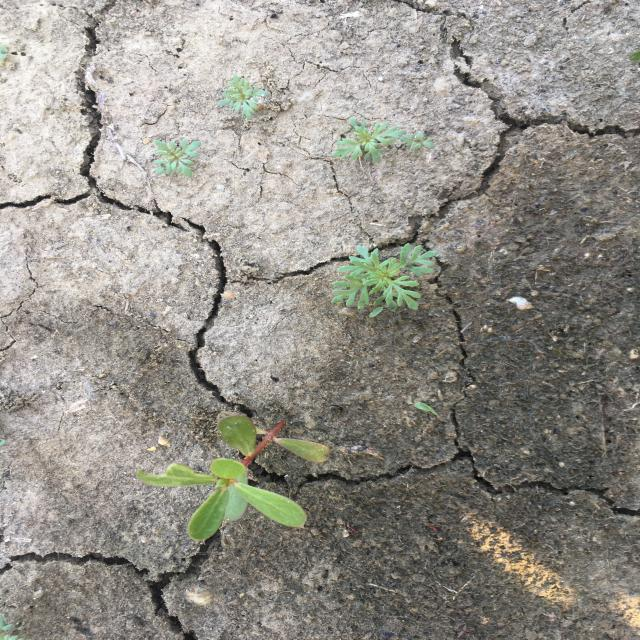Purslane: (133, 409, 331, 542)
Ragweed: (328, 242, 440, 318), (329, 115, 436, 164), (216, 74, 272, 119), (149, 137, 203, 181)
